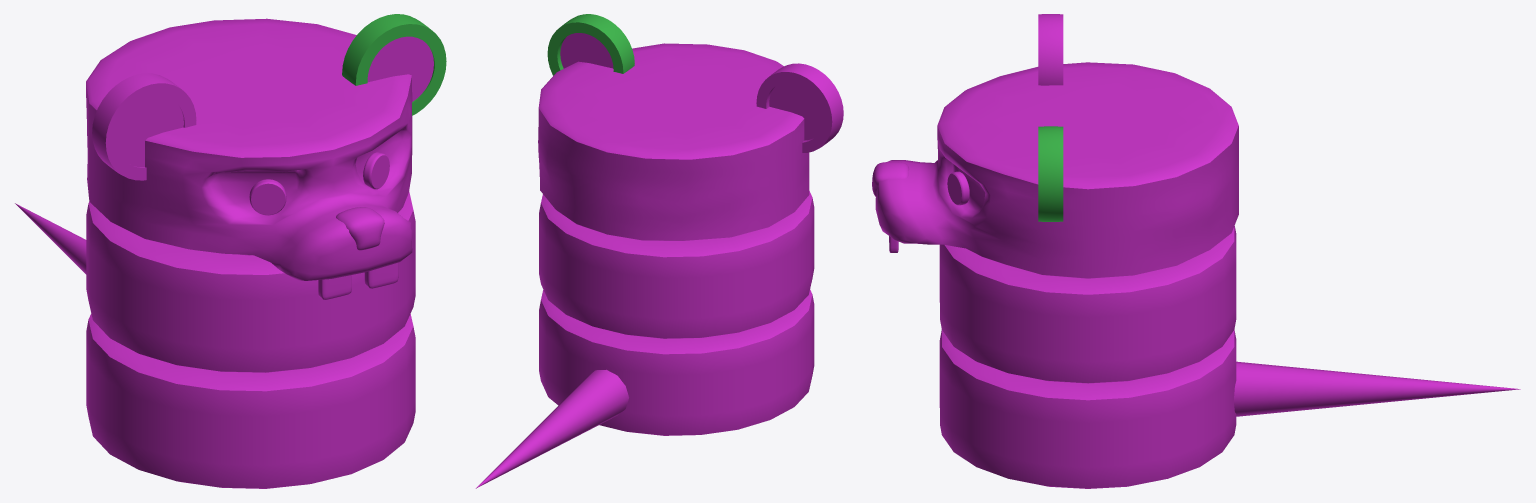
File: Tombstack.fbx
The picture shows the model from 3 angles, left to right: view 1: azimuth 30°, elevation 25°; view 2: azimuth 150°, elevation 25°; view 3: azimuth 270°, elevation 25°; orthographic projection. The views are drawn at different scales.
Parts seen in each view (by area): view 1: Tombstack, Head, Ear, Ear_2, Tail, Eye, Eye_2; view 2: Tombstack, Head, Tail, Ear, Ear_2; view 3: Tombstack, Head, Tail, Ear_2, Ear.
Part boxes in pixels (box(x1,y1,x2,y2)): Tombstack: box(86, 191, 415, 488); Head: box(86, 18, 413, 299); Ear: box(92, 73, 196, 180); Ear_2: box(342, 14, 446, 115); Tail: box(15, 203, 86, 274); Eye: box(249, 179, 286, 215); Eye_2: box(363, 152, 389, 189); Tombstack: box(539, 191, 814, 435); Head: box(538, 43, 809, 240); Tail: box(475, 369, 628, 488); Ear: box(756, 63, 843, 152); Ear_2: box(547, 14, 634, 75); Tombstack: box(939, 226, 1236, 488); Head: box(872, 62, 1238, 278); Tail: box(1233, 361, 1520, 416); Ear_2: box(1038, 126, 1063, 221); Ear: box(1038, 14, 1063, 85).
Bounding box in the file's own units: 113 × 125 × 205.
